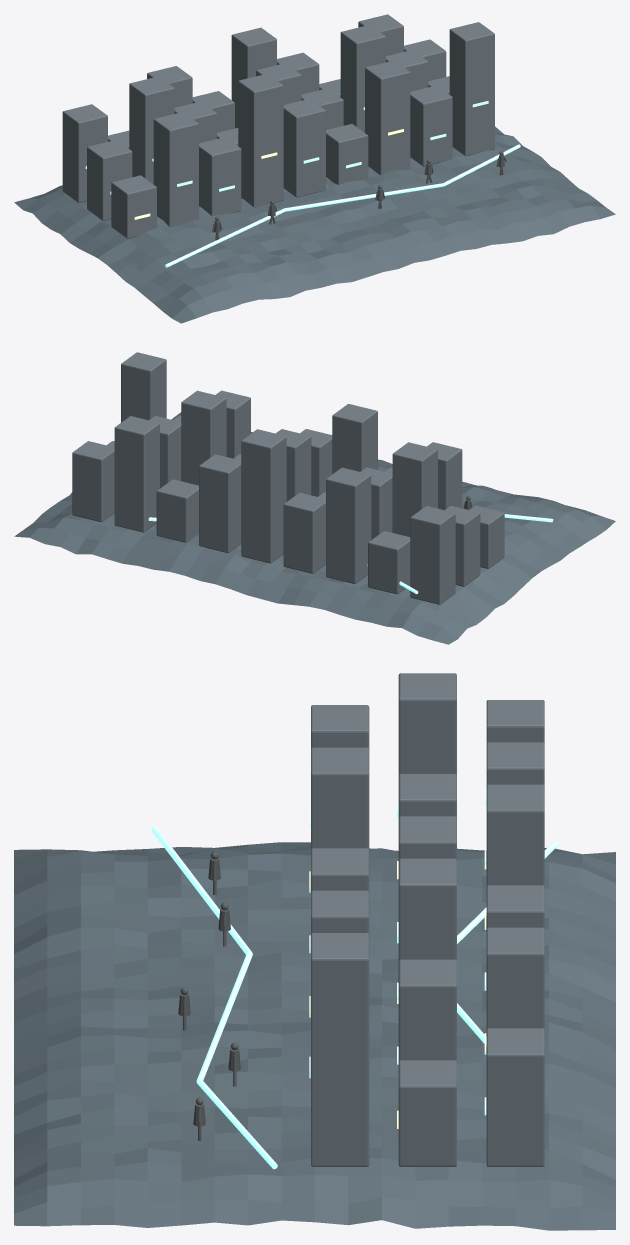
The model's file is world-09-network.glb.
The picture shows the model from 3 angles, top to bottom: view 1: azimuth 30°, elevation 25°; view 2: azimuth 150°, elevation 25°; view 3: azimuth 270°, elevation 25°; orthographic projection. The views are drawn at different scales.
Parts seen in each view (by area): view 1: BH_WORLD_09_Batch_01, BH_WORLD_09_Terrain.003, BH_WORLD_09_Batch_03, BH_WORLD_09_Batch_04; view 2: BH_WORLD_09_Batch_01, BH_WORLD_09_Terrain.003; view 3: BH_WORLD_09_Terrain.003, BH_WORLD_09_Batch_01, BH_WORLD_09_Batch_03, BH_WORLD_09_Batch_04.
Boxes of the visible parts, x1,y1,x2,y2 form: BH_WORLD_09_Batch_01: (62, 14, 494, 238); BH_WORLD_09_Terrain.003: (14, 126, 615, 323); BH_WORLD_09_Batch_03: (85, 101, 520, 267); BH_WORLD_09_Batch_04: (212, 151, 506, 240); BH_WORLD_09_Batch_01: (72, 352, 504, 604); BH_WORLD_09_Terrain.003: (14, 412, 615, 644); BH_WORLD_09_Terrain.003: (14, 842, 615, 1230); BH_WORLD_09_Batch_01: (311, 673, 544, 1166); BH_WORLD_09_Batch_03: (151, 787, 558, 1169); BH_WORLD_09_Batch_04: (178, 852, 240, 1140).
Size of the model in its own units: 18 by 5.36 by 12.
